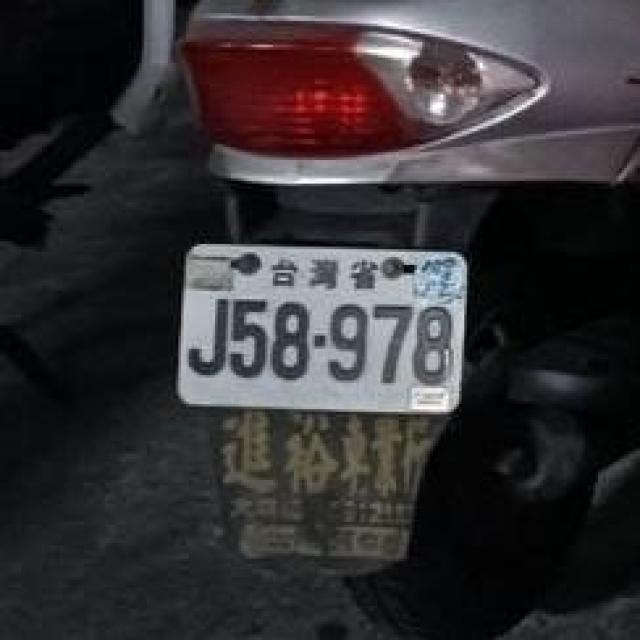W: (165, 231, 480, 433)
